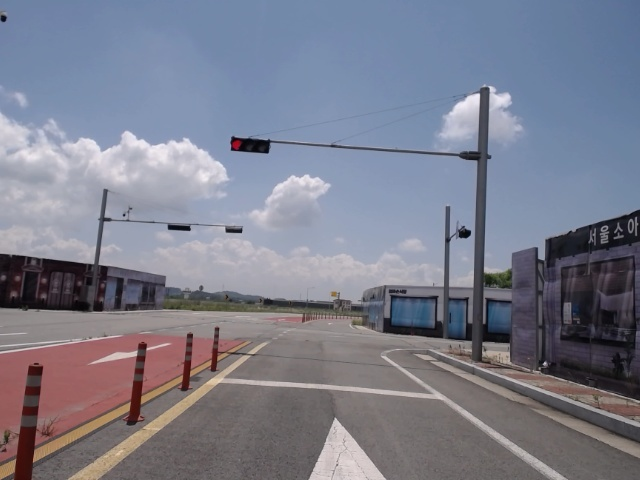red_3: (229, 137, 273, 154)
